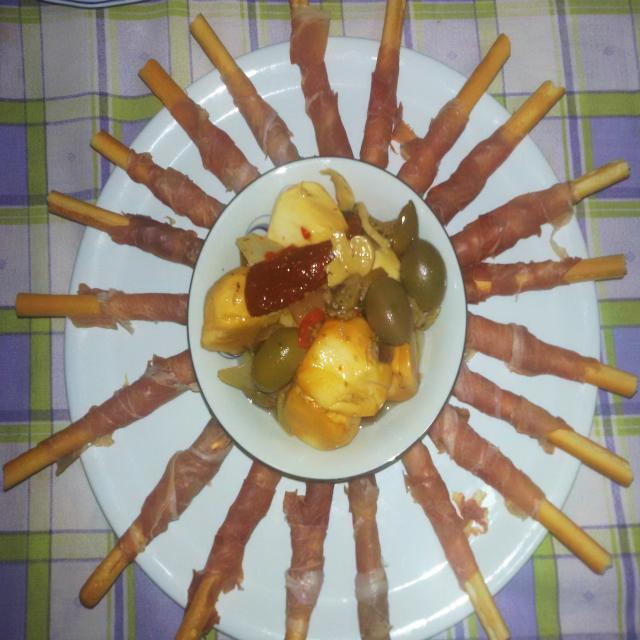Grissini: (416, 30, 632, 309), (407, 375, 632, 625), (84, 427, 340, 640), (41, 183, 205, 273), (84, 126, 218, 223)
